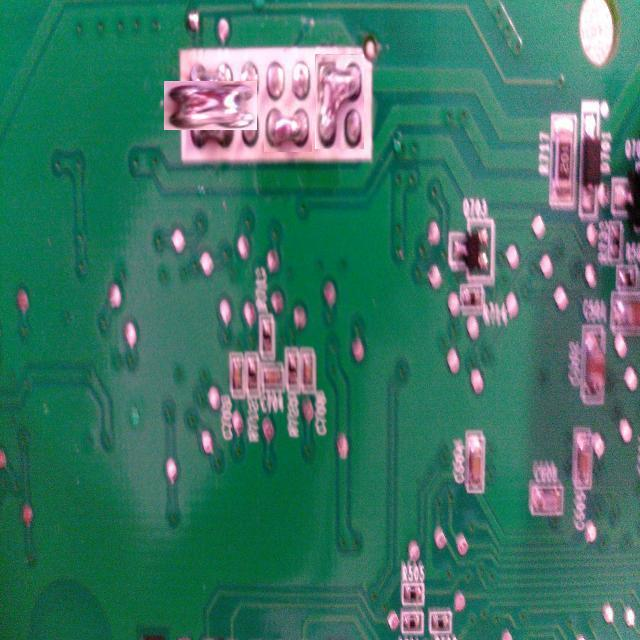Short_circuit: (175, 70, 246, 142), (315, 54, 364, 149), (264, 106, 312, 152)
